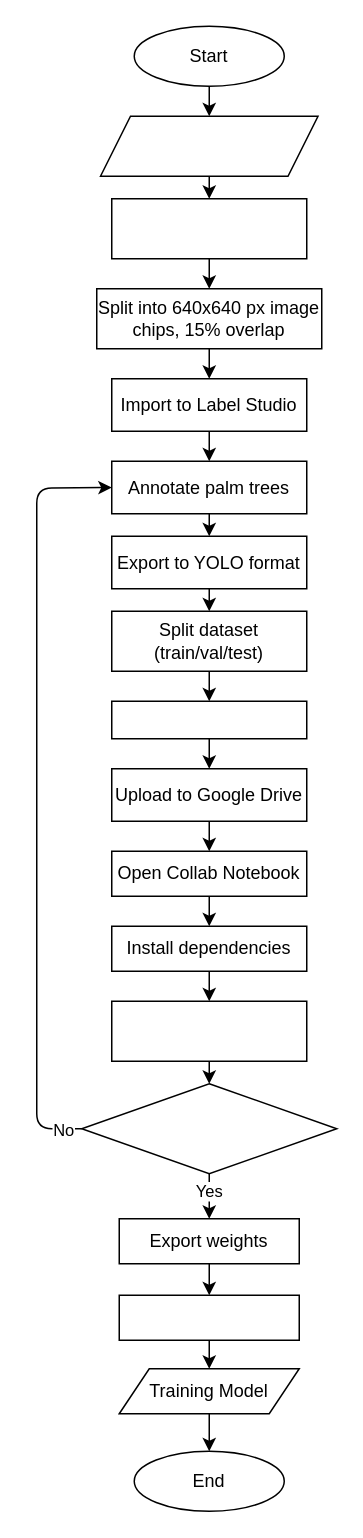
Some shapes in this 363 by 1538 pixel diagram are drawn without their labels. Each missing label, with the centre of its shape:
Convert to ONNX: point (208, 1317)
Create data.yaml: point (208, 719)
Define training area extent: point (208, 228)
Detection acceptable?: point (208, 1128)
Orthomosaic: point (208, 145)
Train YOLO model (YOLO11s, 60 epoch): point (208, 1030)
